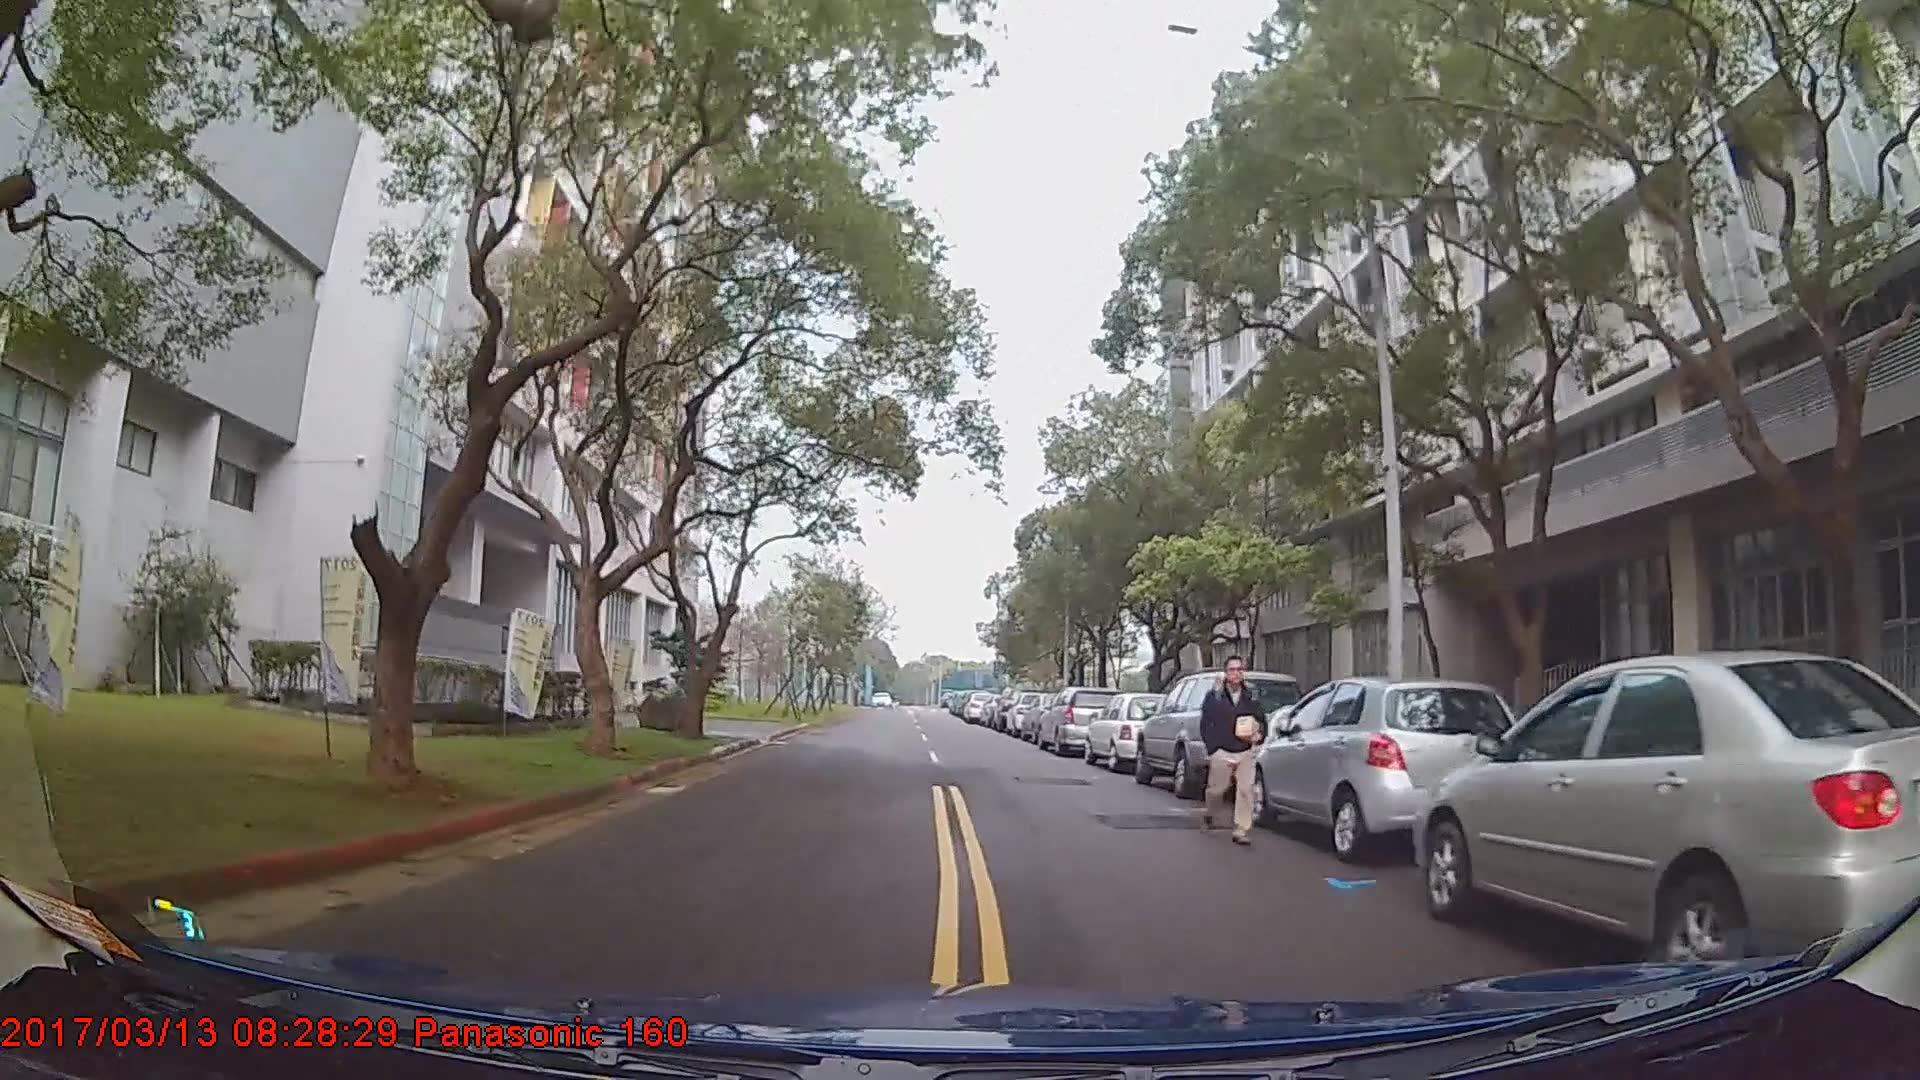pedestrian: (1199, 655, 1271, 847)
vehicle: (1409, 645, 1920, 988), (1242, 670, 1520, 864), (1133, 671, 1312, 799), (1081, 692, 1179, 773), (1036, 685, 1124, 755), (961, 690, 996, 724)
